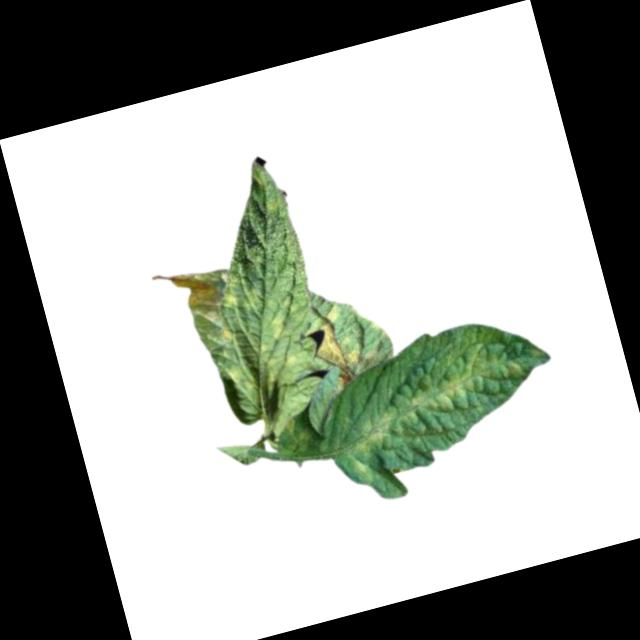Leaf_Mold: (346, 348, 531, 452), (303, 298, 367, 375), (154, 257, 225, 324), (246, 311, 305, 390), (217, 266, 265, 320), (217, 322, 238, 347)
